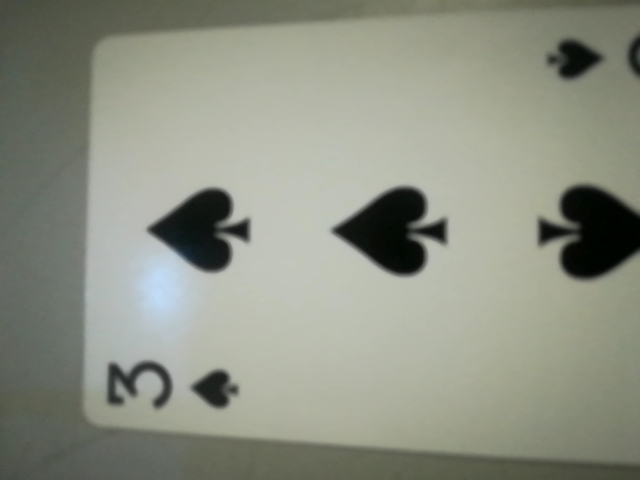ht 3: (84, 342, 264, 434)
